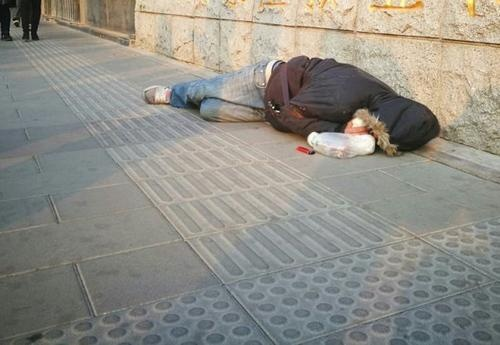falling: (145, 43, 450, 167)
